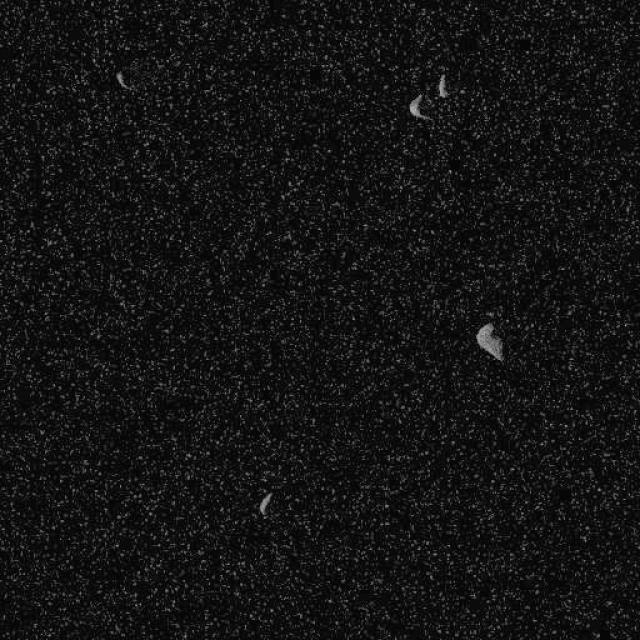D2: (474, 320, 505, 362), (408, 91, 432, 121), (256, 490, 272, 516), (114, 69, 132, 90), (436, 72, 449, 98)
